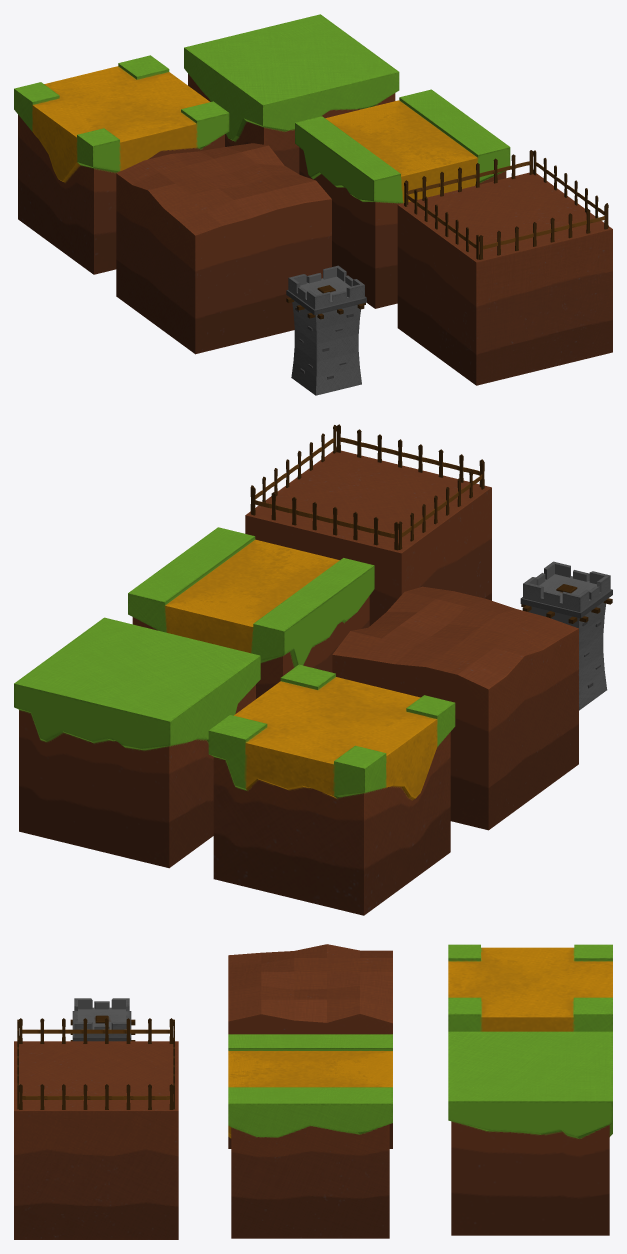
File: floor and wall.fbx
3 renders of one model, top to bottom at view 1: azimuth 30°, elevation 25°; view 2: azimuth 150°, elevation 25°; view 3: azimuth 270°, elevation 25°, orthographic. The views are drawn at different scales.
Parts seen in each view (by area): view 1: Cube.2223, Cube.2222, Cube.2225, Cube.2224, Cube.2716, Cube.307, Cube.2231; view 2: Cube.2225, Cube.2716, Cube.2222, Cube.2224, Cube.2223, Cube.307, Cube.2231; view 3: Cube.2716, Cube.2224, Cube.2223, Cube.2225, Cube.2222, Cube.2231, Cube.307.
Part boxes in pixels (x1=…): Cube.2223: x1=397, y1=172, x2=612, y2=385; Cube.2222: x1=116, y1=143, x2=331, y2=354; Cube.2225: x1=14, y1=55, x2=229, y2=274; Cube.2224: x1=295, y1=89, x2=510, y2=308; Cube.2716: x1=184, y1=14, x2=399, y2=173; Cube.307: x1=286, y1=265, x2=366, y2=395; Cube.2231: x1=404, y1=150, x2=608, y2=259; Cube.2225: x1=208, y1=664, x2=455, y2=915; Cube.2716: x1=14, y1=617, x2=260, y2=868; Cube.2222: x1=332, y1=586, x2=578, y2=830; Cube.2224: x1=128, y1=527, x2=374, y2=698; Cube.2223: x1=245, y1=450, x2=491, y2=625; Cube.307: x1=520, y1=561, x2=612, y2=710; Cube.2231: x1=250, y1=424, x2=484, y2=550; Cube.2716: x1=448, y1=1031, x2=612, y2=1235; Cube.2224: x1=228, y1=1034, x2=392, y2=1238; Cube.2223: x1=14, y1=1041, x2=178, y2=1239; Cube.2225: x1=448, y1=944, x2=612, y2=1031; Cube.2222: x1=228, y1=944, x2=392, y2=1148; Cube.2231: x1=17, y1=1018, x2=174, y2=1109; Cube.307: x1=70, y1=998, x2=135, y2=1041.
Bounding box in the file's own units: 695 × 311 × 1095.
